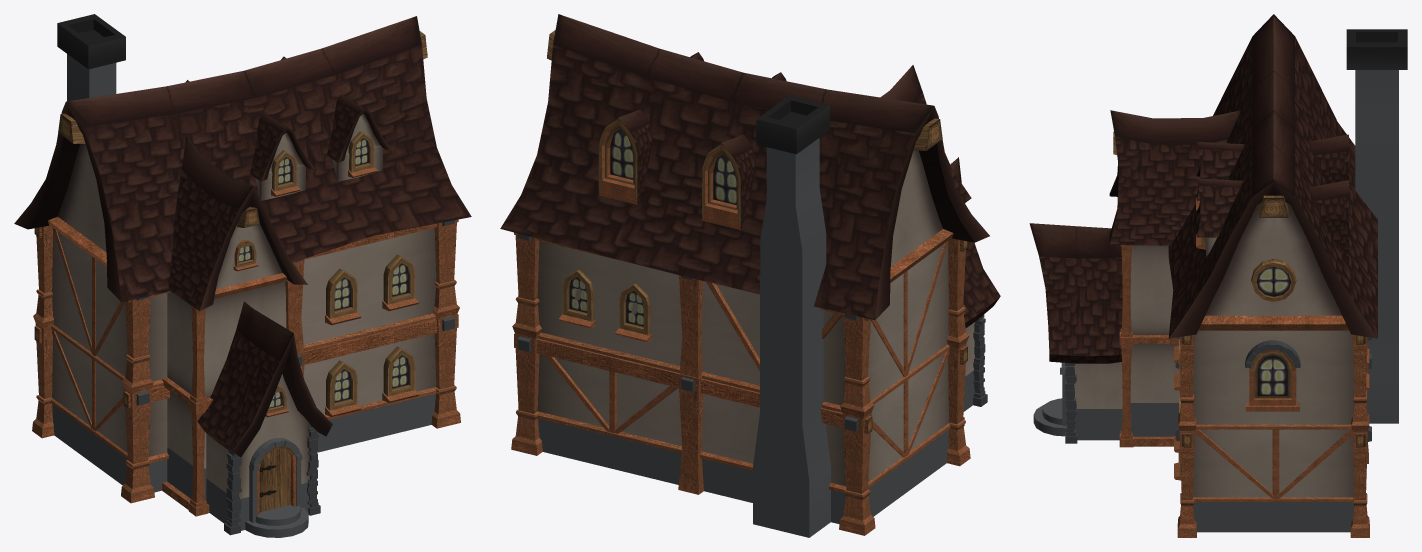
File: fanasty_mod_village_building24.fbx
3 renders of one model, left to right at view 1: azimuth 30°, elevation 25°; view 2: azimuth 150°, elevation 25°; view 3: azimuth 270°, elevation 25°, orthographic. The views are drawn at different scales.
Parts seen in each view (by area): view 1: village_building_024; view 2: village_building_024; view 3: village_building_024.
Boxes of the visible parts, x1,y1,x2,y2 form: village_building_024: (14,14,471,537); village_building_024: (500,14,1000,537); village_building_024: (1029,14,1407,537).
Bounding box in the file's own units: 12.57 × 12.97 × 11.92.
